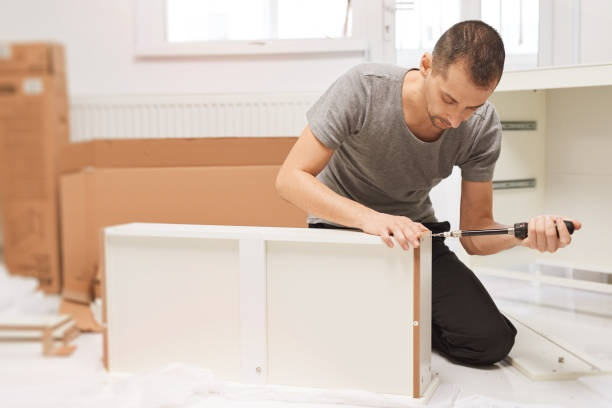person: (276, 18, 521, 362)
screwdriver: (431, 217, 578, 245)
